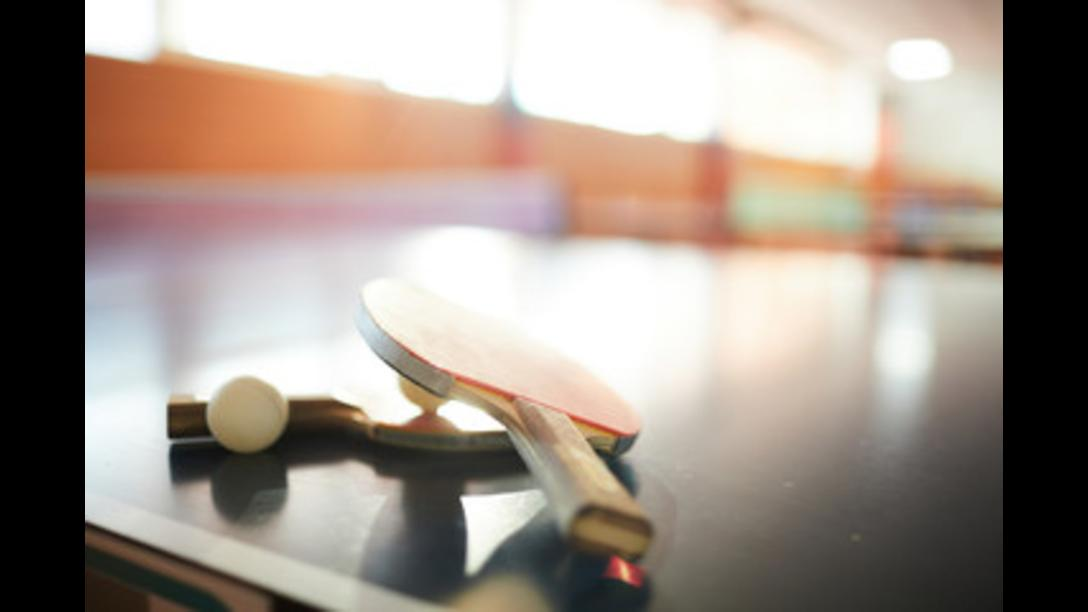Table-Tennis-Ball: (206, 374, 288, 450)
